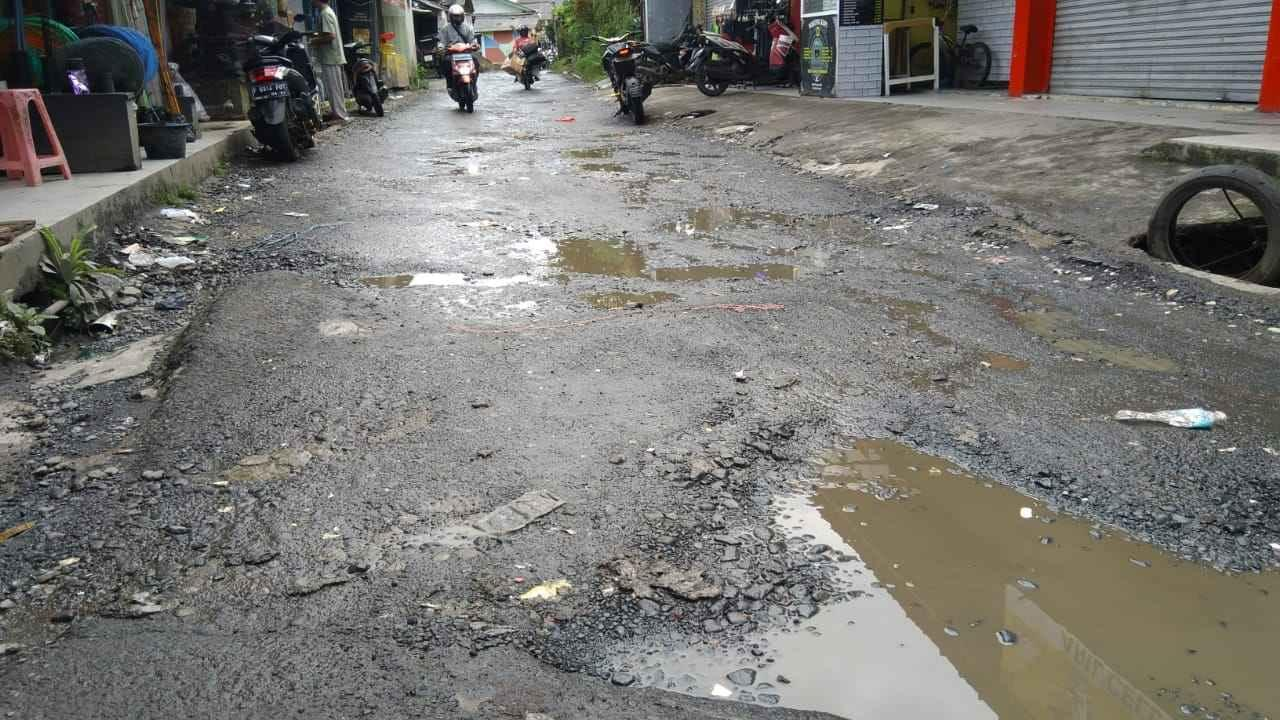Pothole: (515, 391, 1280, 720), (817, 259, 1231, 401), (285, 235, 840, 314), (585, 195, 936, 253), (421, 135, 739, 194)
